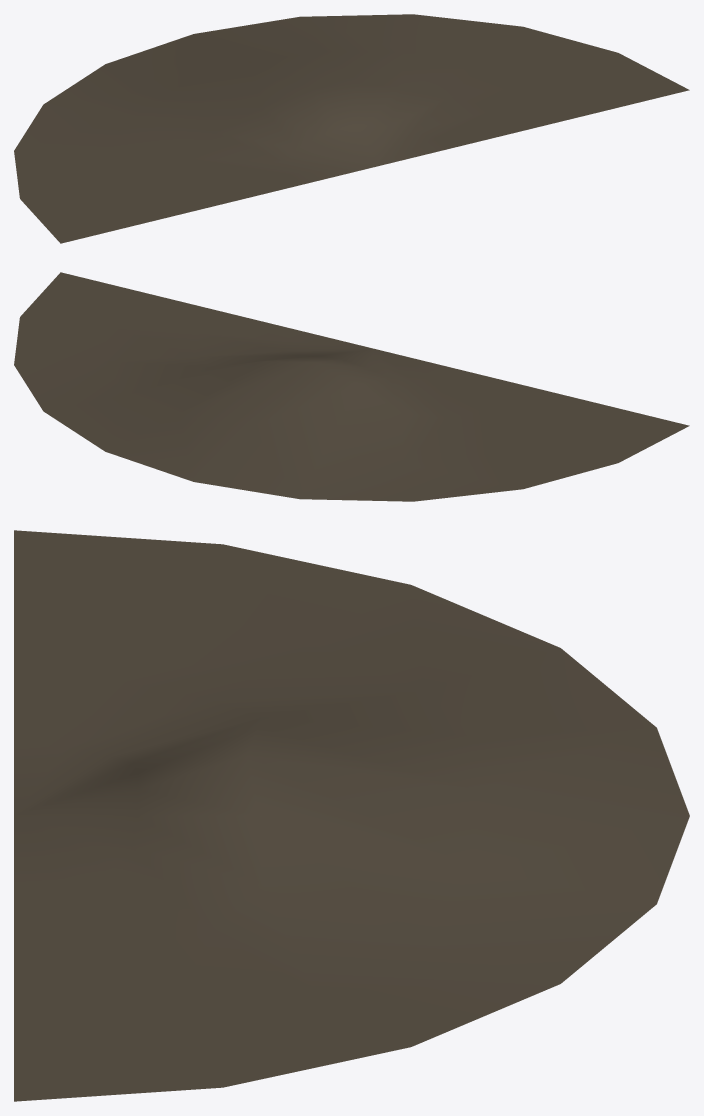
Rendered from mockup_dirt.fbx.
3 renders of one model, top to bottom at view 1: azimuth 30°, elevation 25°; view 2: azimuth 150°, elevation 25°; view 3: azimuth 270°, elevation 25°, orthographic. The views are drawn at different scales.
Parts seen in each view (by area): view 1: mockup_dirt; view 2: mockup_dirt; view 3: mockup_dirt.
Part boxes in pixels (x1,y1,x2,y2): mockup_dirt: (14, 14, 689, 243); mockup_dirt: (14, 272, 689, 501); mockup_dirt: (14, 530, 689, 1101).
Size of the model in its own units: 2 by 0.0982 by 1.
